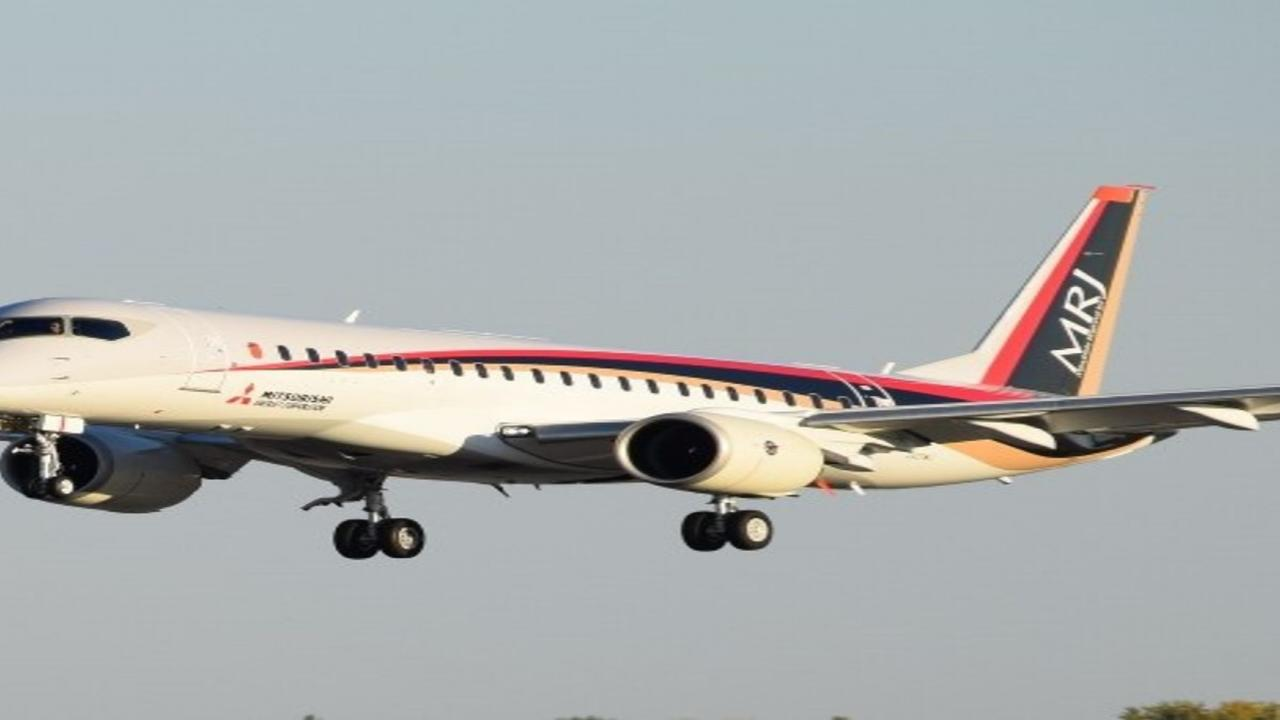Airplane: (0, 167, 1280, 571)
